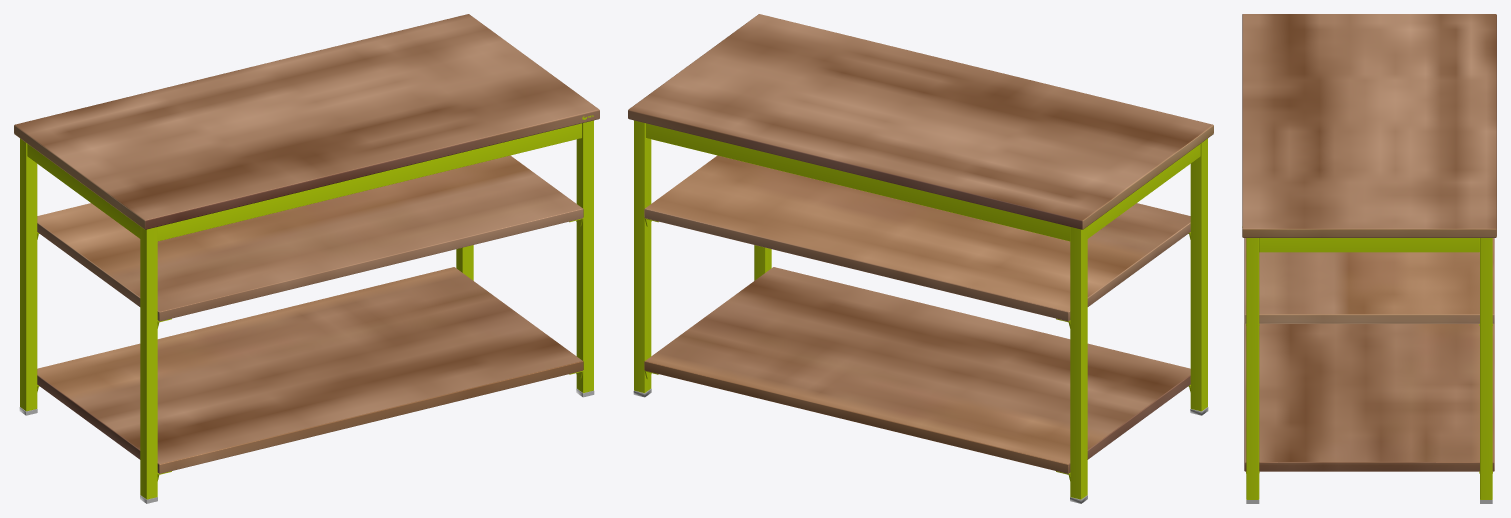
File: storage_120x60_not_mobile_FIN.fbx
3 views of the same model, side by side, from view 1: azimuth 30°, elevation 25°; view 2: azimuth 150°, elevation 25°; view 3: azimuth 270°, elevation 25° (orthographic). The views are drawn at different scales.
Visible parts, largest first — view 1: drewno_mesh, metal_mesh; view 2: drewno_mesh, metal_mesh; view 3: drewno_mesh, metal_mesh.
Boxes of the visible parts, <box> form: drewno_mesh: <box>14,14,599,473</box>; metal_mesh: <box>20,115,593,499</box>; drewno_mesh: <box>628,14,1213,473</box>; metal_mesh: <box>634,120,1207,499</box>; drewno_mesh: <box>1242,14,1496,471</box>; metal_mesh: <box>1246,238,1492,499</box>.
Size of the model in its own units: 120 by 71.99 by 60.
